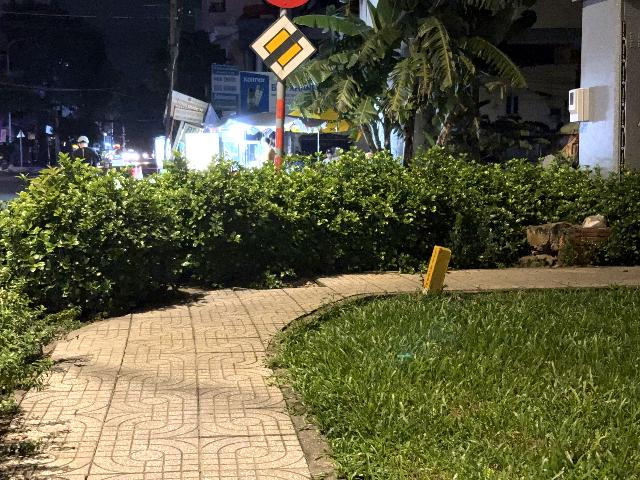het-duong-uu-tien: (250, 12, 319, 83)
